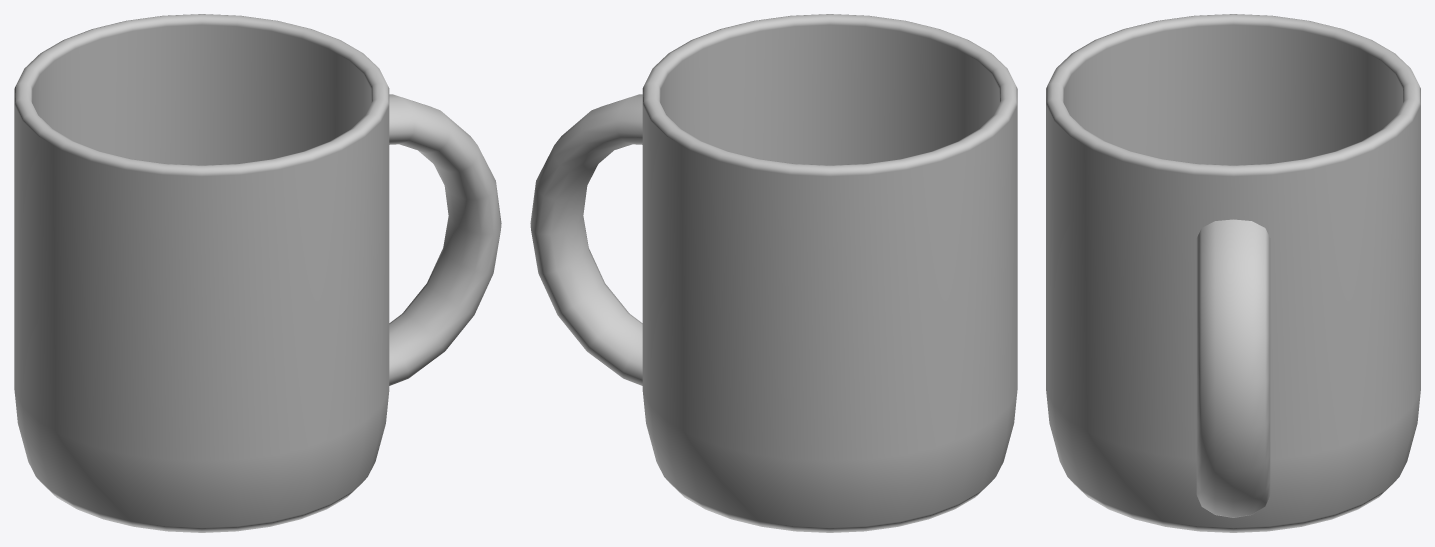
File: mug.glb
3 renders of one model, left to right at view 1: azimuth 30°, elevation 25°; view 2: azimuth 150°, elevation 25°; view 3: azimuth 270°, elevation 25°, orthographic.
Parts seen in each view (by area): view 1: pTorus2; view 2: pTorus2; view 3: pTorus2.
Part boxes in pixels (x1=…): pTorus2: x1=14, y1=14, x2=501, y2=532; pTorus2: x1=530, y1=14, x2=1017, y2=532; pTorus2: x1=1046, y1=14, x2=1420, y2=532.
Size of the model in its own units: 2 by 1.55 by 1.42.
Materials: 1 (1 with a texture image).
